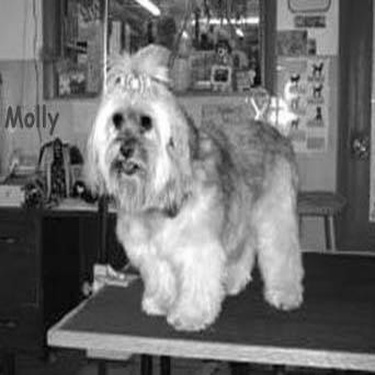dog: (91, 39, 311, 336)
